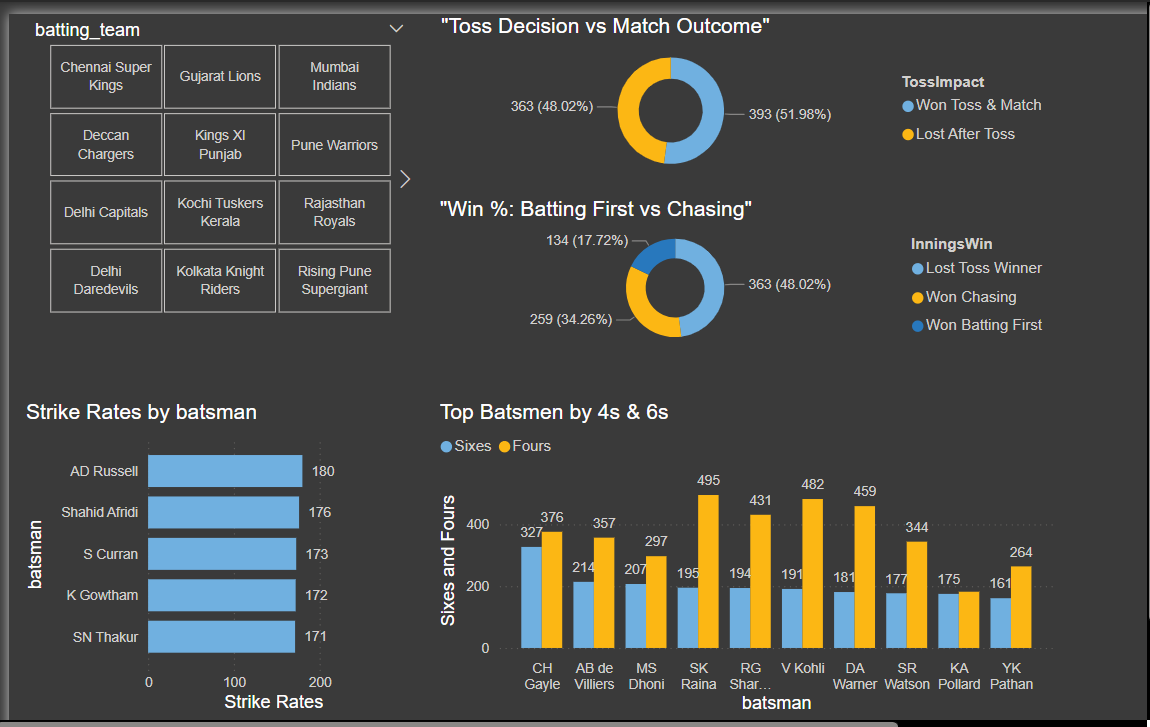

Layout of this report page (visuals, bound fields, positions):
{"tool":"powerbi","page":{"name":"Page 2","canvas":[1280,720],"ordinal":1},"visuals":[{"type":"slicer","fields":{"Values":["deliveries.batting_team"]},"box":[10.3,0,349.5,269.1],"z":0},{"type":"clusteredColumnChart","title":"Top Batsmen by 4s & 6s","fields":{"Category":["deliveries.batsman"],"Y":["deliveries.Sixes","deliveries.Fours"]},"box":[373.6,339.1,549.4,279.3],"z":1000},{"type":"clusteredBarChart","fields":{"Category":["deliveries.batsman"],"Y":["deliveries.Strike Rates"]},"box":[10.3,339.1,349.4,279.3],"z":2000},{"type":"donutChart","title":"\"Toss Decision vs Match Outcome\"","fields":{"Category":["matches.TossImpact"],"Y":["matches.match_id"]},"box":[375.3,0,548.5,149.5],"z":3000},{"type":"donutChart","title":"\"Win %: Batting First vs Chasing\"","fields":{"Category":["matches.InningsWin"],"Y":["matches.match_id"]},"box":[373.6,160.9,549.4,140.2],"z":4000}]}

Visuals, with their boxes on the page's 1280x720 design canvas (x1, y1, x2, y2). These are canvas units, not pixel positions in the 1150x727 screenshot, which may show the page scaled, cropped or inside an application window:
slicer - deliveries.batting_team: [10, 0, 360, 269]
"Top Batsmen by 4s & 6s" clusteredColumnChart: [374, 339, 923, 618]
clusteredBarChart - deliveries.batsman x deliveries.Strike Rates: [10, 339, 360, 618]
""Toss Decision vs Match Outcome"" donutChart: [375, 0, 924, 150]
""Win %: Batting First vs Chasing"" donutChart: [374, 161, 923, 301]
